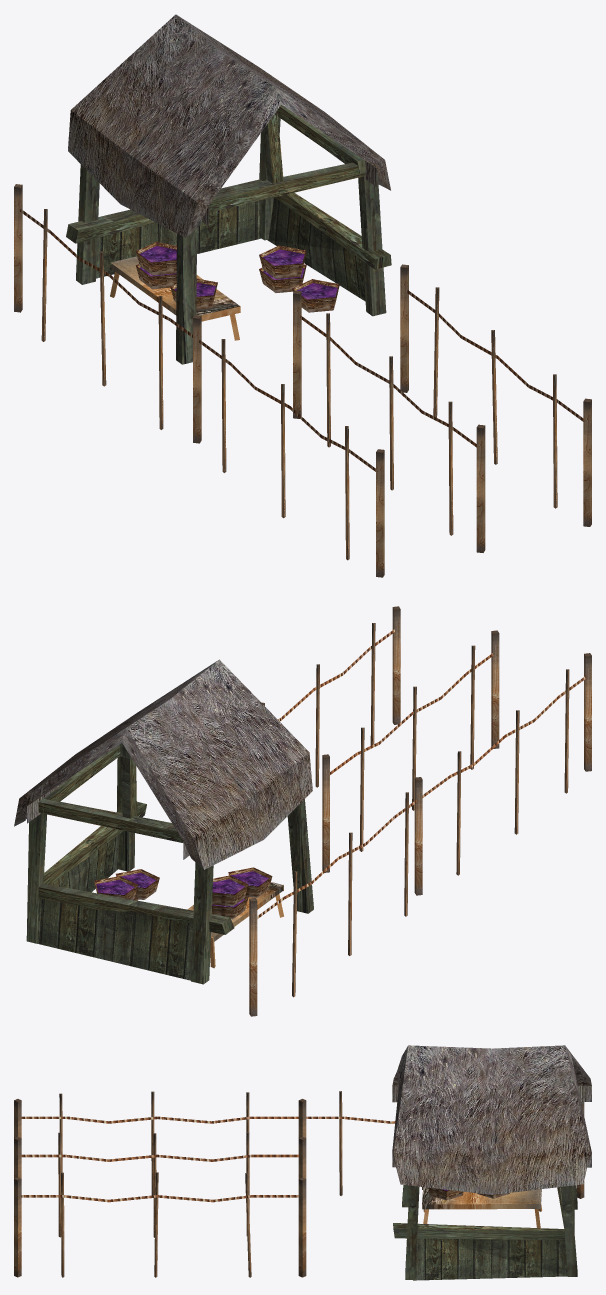
3 renders of one model, top to bottom at view 1: azimuth 30°, elevation 25°; view 2: azimuth 150°, elevation 25°; view 3: azimuth 270°, elevation 25°, orthographic. The views are drawn at different scales.
Parts seen in each view (by area): view 1: farm_grapes.001; view 2: farm_grapes.001; view 3: farm_grapes.001.
Part boxes in pixels (bbox=[...]): farm_grapes.001: bbox=[14, 14, 591, 577]; farm_grapes.001: bbox=[14, 606, 591, 1016]; farm_grapes.001: bbox=[14, 1045, 591, 1280].
Size of the model in its own units: 543 by 511 by 1273.
6 materials, 6 textured.
